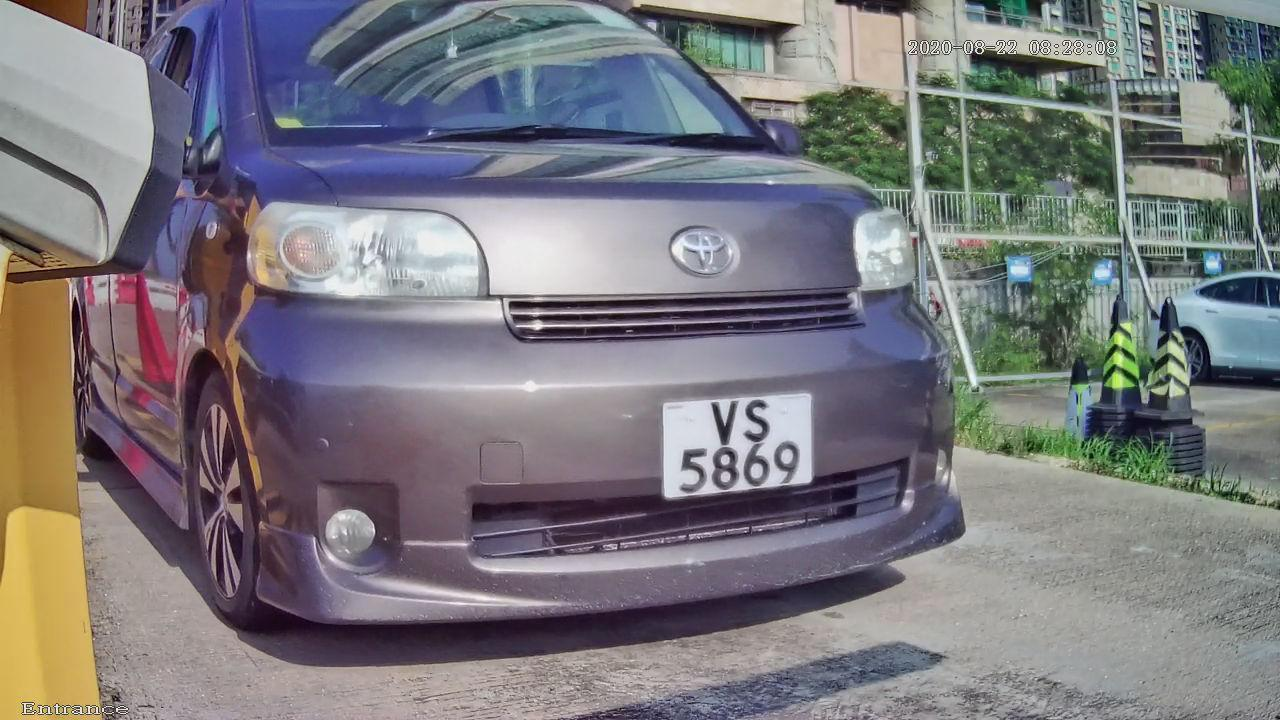License Plate: (646, 380, 829, 515)
